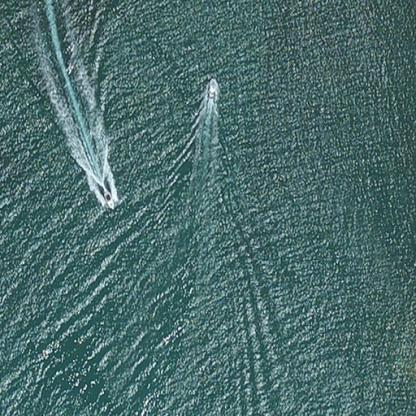ship: (93, 181, 121, 212), (201, 74, 221, 101)
